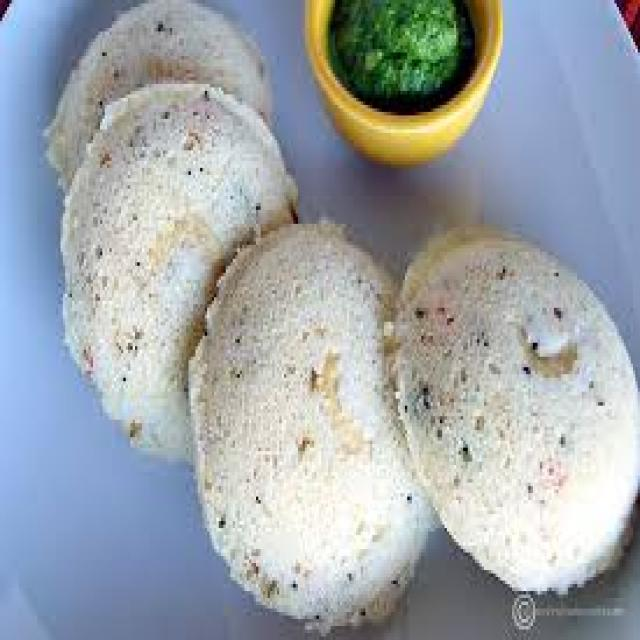IDLI: (185, 224, 430, 637), (387, 222, 638, 596), (61, 82, 311, 455), (48, 3, 281, 186)
